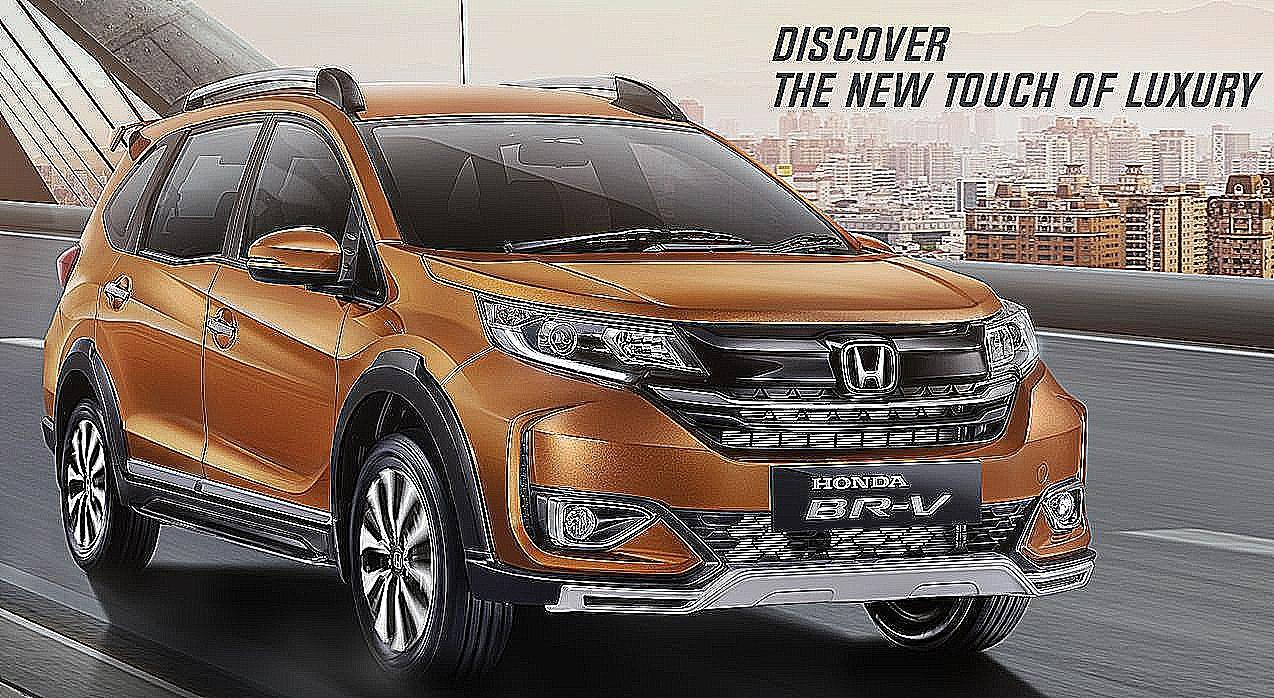Car hood: (413, 247, 1006, 327)
Driver-s door - -F-R-: (189, 66, 367, 580)
Fender - -F-R-: (326, 240, 495, 465)
Fender - -R-R-: (56, 118, 152, 375)
Front bumper: (427, 347, 1104, 613)
Headlight - -L-: (975, 297, 1041, 395)
Headlight - -R-: (468, 287, 708, 398)
Passenger-s door - -R-R-: (74, 60, 281, 546)
Rear bumper: (33, 307, 77, 449)
Rear light - -R-: (57, 238, 81, 289)
Side bumper - -R-: (111, 451, 341, 585)
Side mirror - -R-: (243, 223, 362, 303)
